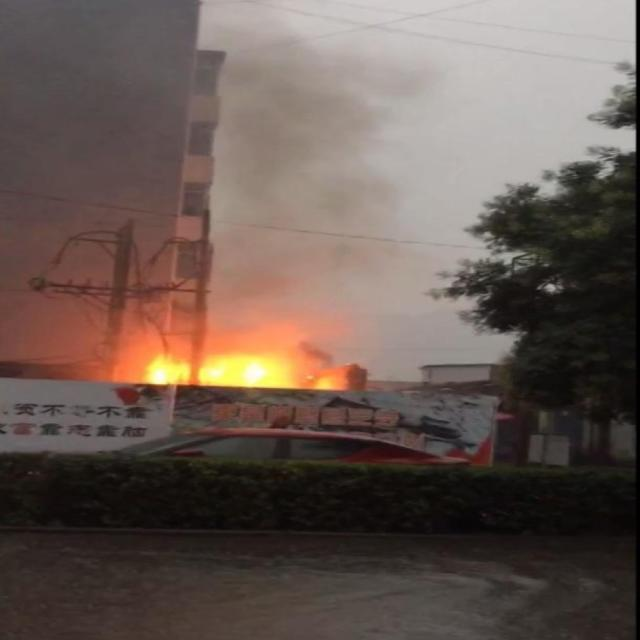Fire: (144, 353, 339, 392)
Smoke: (198, 1, 449, 324)
